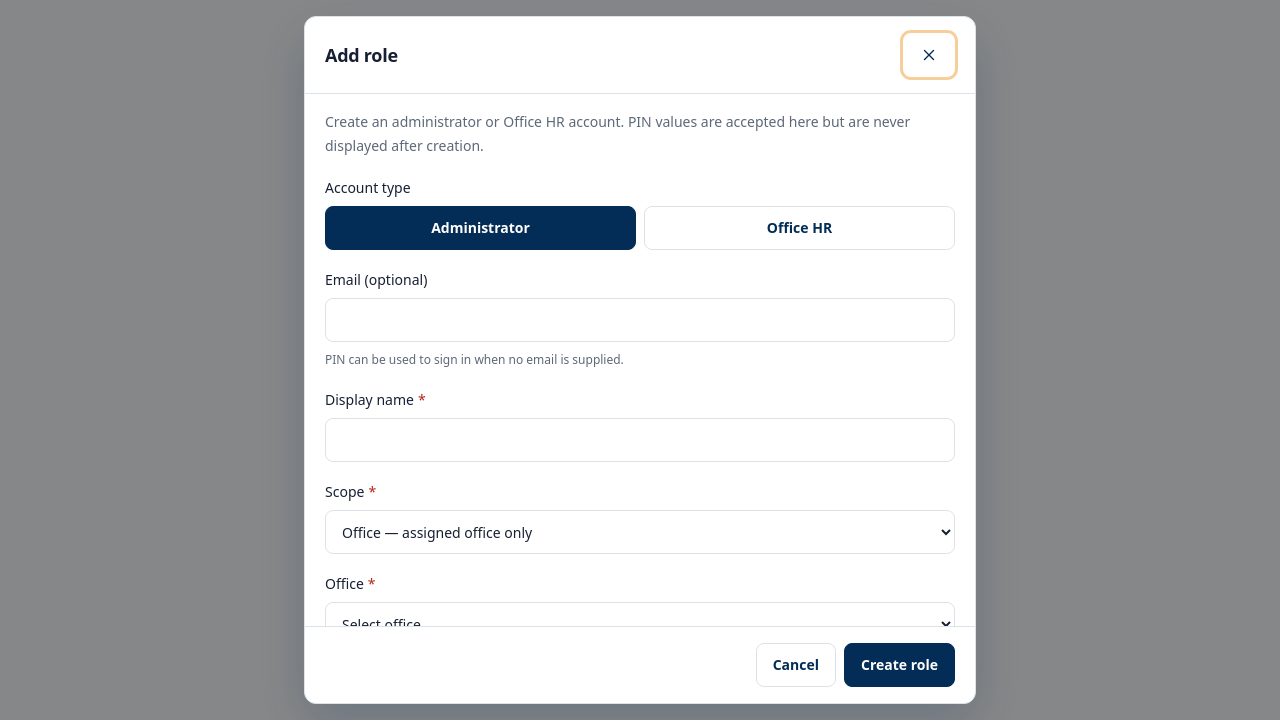
Test case: admin employee operations › creates scoped roles through an accessible dialog without exposing entered PIN text
Expected: the dialog "Add role" is shown, [304, 16, 976, 704]
Step 1. Click the button "Office HR" → (800, 228), box [644, 206, 955, 250]
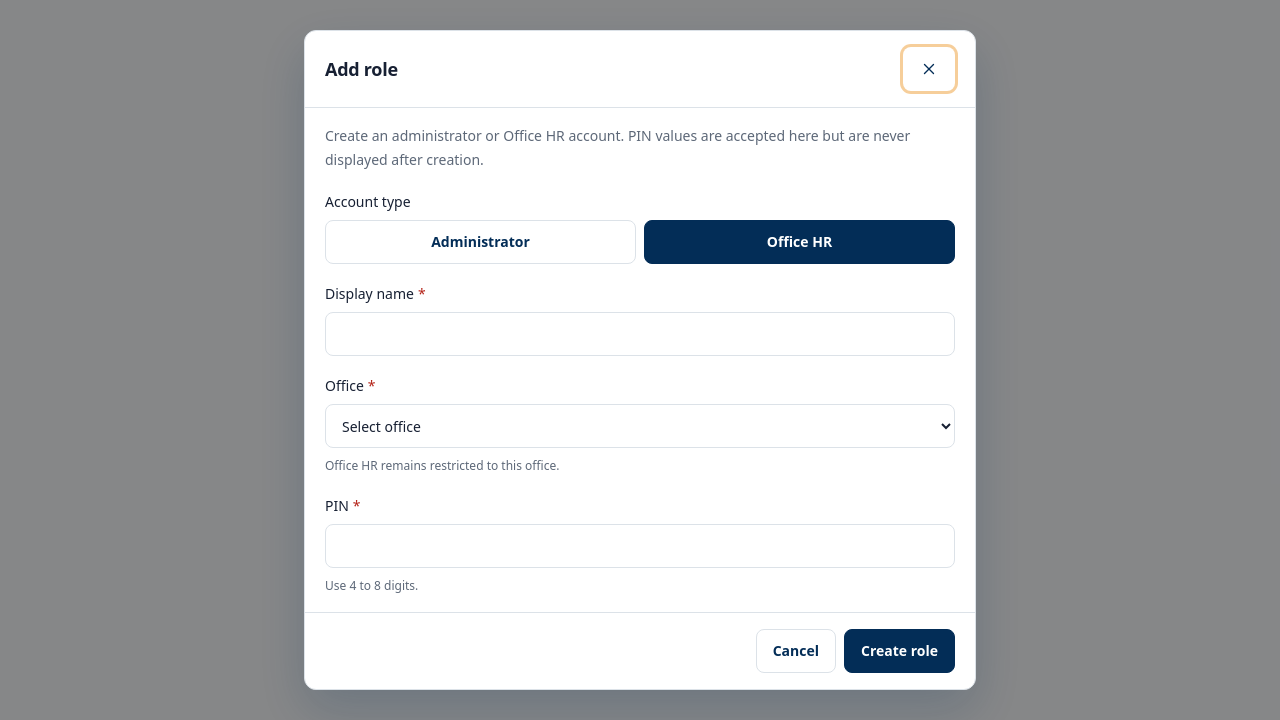
Result: the text "Office HR remains restricted to this office." is shown at [325, 457, 559, 474]
